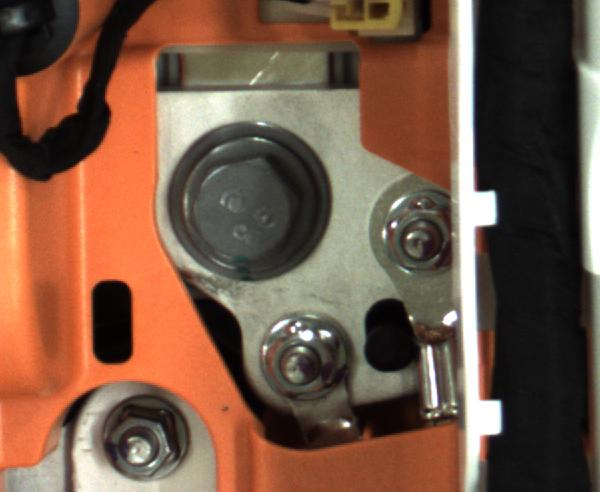nut_b: (149, 118, 329, 287)
screw_s: (247, 304, 370, 405), (82, 391, 197, 481), (382, 196, 462, 272)
